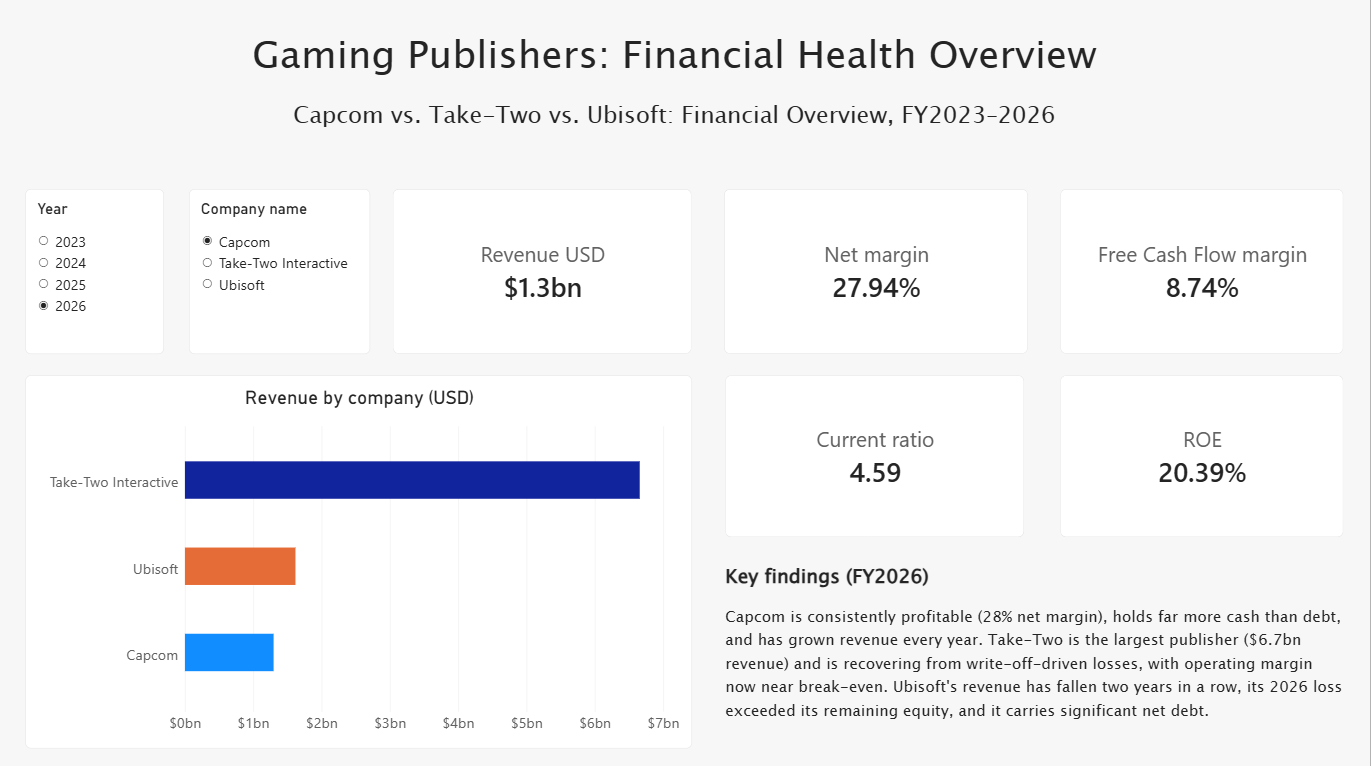

The page's visual inventory and layout, read from the dashboard file:
{"tool":"powerbi","page":{"name":"Overview","canvas":[1920,1080],"ordinal":0},"visuals":[{"type":"listSlicer","title":"Company name","fields":{"Values":["public companies.company_name"]},"box":[271.7,265.1,253.2,230.5],"z":0},{"type":"listSlicer","title":"Year","fields":{"Values":["Years.Year"]},"box":[43.2,265.1,193.5,230.5],"z":1000},{"type":"cardVisual","fields":{"Data":["Sum(public amounts_usd.total_revenue_usd)"]},"box":[555.7,265.1,417.8,230.5],"z":2000},{"type":"cardVisual","fields":{"Data":["Avg(public profitability.net_margin)"]},"box":[1018.9,265.1,424,230.5],"z":3000},{"type":"cardVisual","fields":{"Data":["Avg(public cash_flow_quality.free_cf_margin)"]},"box":[1488.2,265.1,395.2,230.5],"z":4000},{"type":"cardVisual","fields":{"Data":["Avg(public liquidity_leverage.current_ratio)"]},"box":[1020.9,524.5,417.8,226.4],"z":5000},{"type":"cardVisual","fields":{"Data":["Avg(public returns_growth.roe)"]},"box":[1488.2,524.5,395.2,226.4],"z":6000},{"type":"clusteredBarChart","title":"Revenue by company (USD)","fields":{"Category":["public companies.company_name"],"Y":["Sum(public amounts_usd.total_revenue_usd)"]},"box":[43.2,525.3,930.4,520.8],"z":7000},{"type":"textbox","box":[1020.9,768.2,862.4,277.9],"z":8000},{"type":"textbox","box":[242.1,39.1,1414.1,203.8],"z":9000}]}

Visuals, with their boxes in screenshot pixels (x1, y1, x2, y2), scaled from the page's 1920x1080 canvas onto the 1371x766 screenshot:
"Company name" listSlicer: {"left": 194, "top": 188, "right": 375, "bottom": 352}
"Year" listSlicer: {"left": 31, "top": 188, "right": 169, "bottom": 352}
cardVisual - Sum(public amounts_usd.total_revenue_usd): {"left": 397, "top": 188, "right": 695, "bottom": 352}
cardVisual - Avg(public profitability.net_margin): {"left": 728, "top": 188, "right": 1030, "bottom": 352}
cardVisual - Avg(public cash_flow_quality.free_cf_margin): {"left": 1063, "top": 188, "right": 1345, "bottom": 352}
cardVisual - Avg(public liquidity_leverage.current_ratio): {"left": 729, "top": 372, "right": 1027, "bottom": 533}
cardVisual - Avg(public returns_growth.roe): {"left": 1063, "top": 372, "right": 1345, "bottom": 533}
"Revenue by company (USD)" clusteredBarChart: {"left": 31, "top": 373, "right": 695, "bottom": 742}
textbox: {"left": 729, "top": 545, "right": 1345, "bottom": 742}
textbox: {"left": 173, "top": 28, "right": 1183, "bottom": 172}
